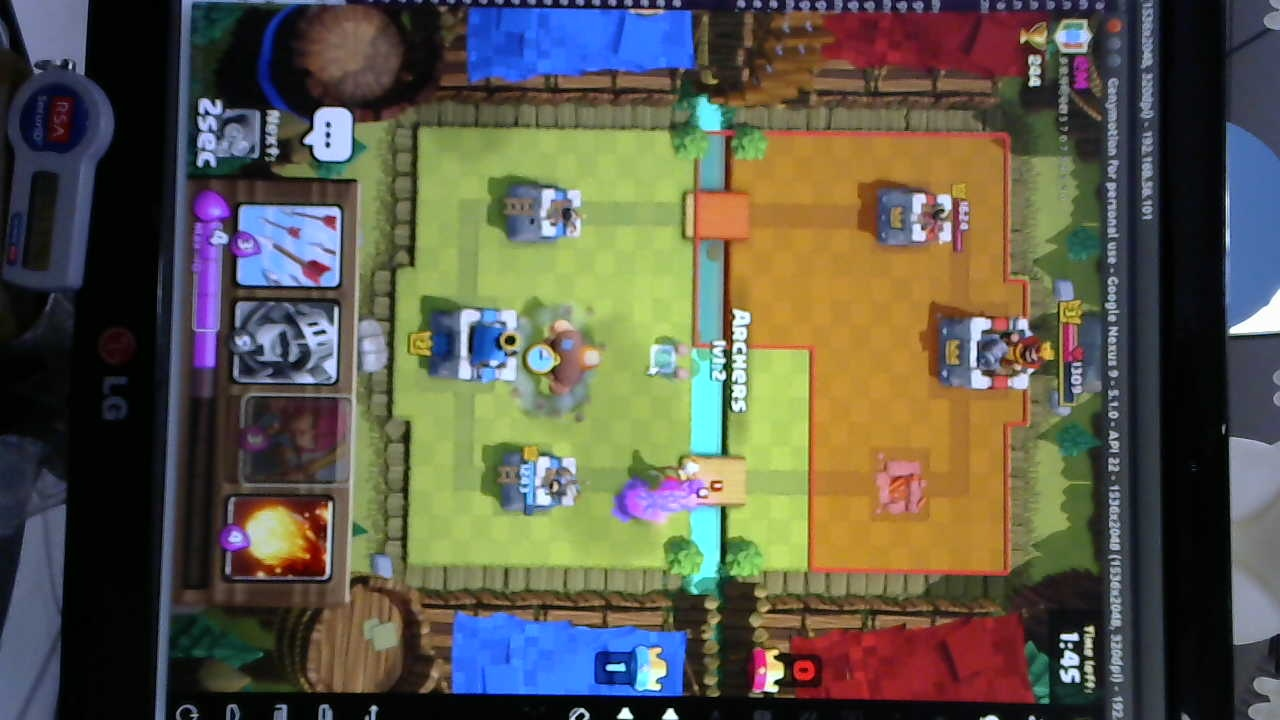giant: (525, 320, 599, 396)
